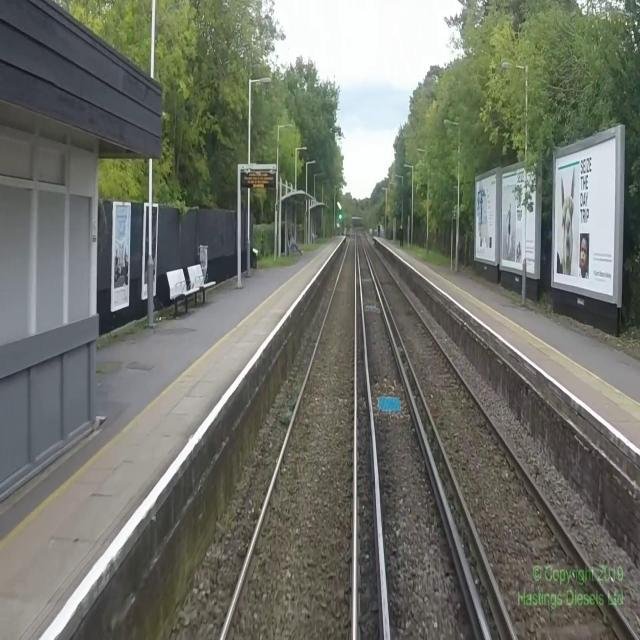rail-track: (362, 236, 634, 639), (223, 231, 355, 639)
